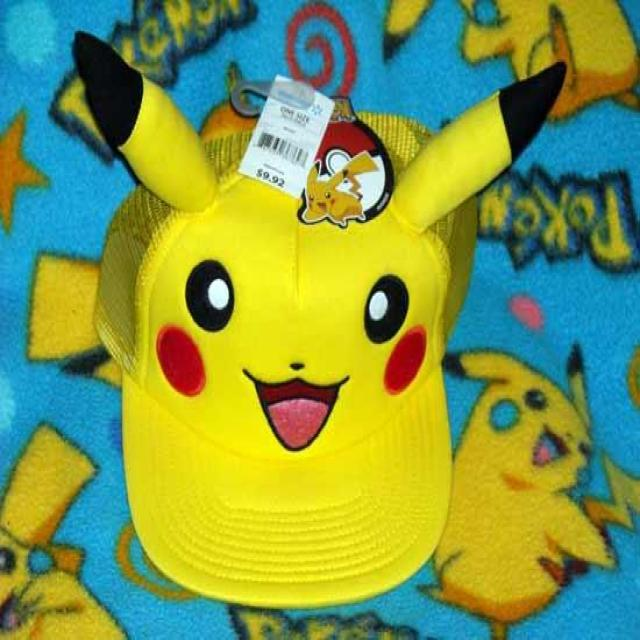pikachu: (74, 22, 567, 464)
